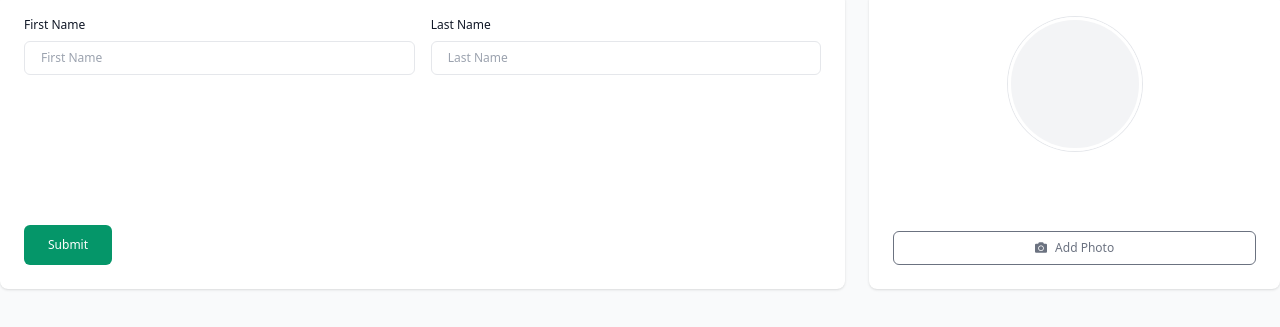
Test case: UserForm › shows validation errors when fields are empty
What coordinates should you click on to do the following:
click the button with test id "submit-button"
I would click on:
 (68, 245)
Its box is x1=24 y1=225 x2=112 y2=265.
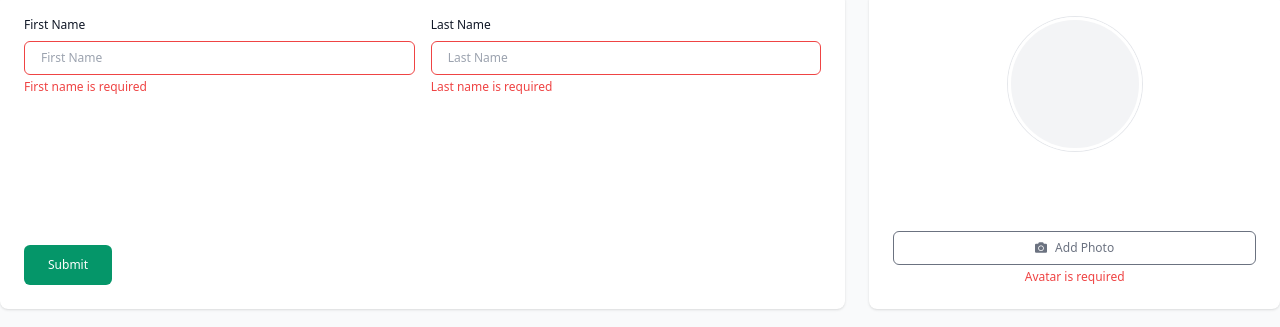
Expected: the text "First name is required" is shown, x1=24 y1=78 x2=147 y2=95
Expected: the text "Last name is required" is shown, x1=431 y1=78 x2=552 y2=95
Expected: the text "Avatar is required" is shown, x1=1025 y1=269 x2=1124 y2=285
